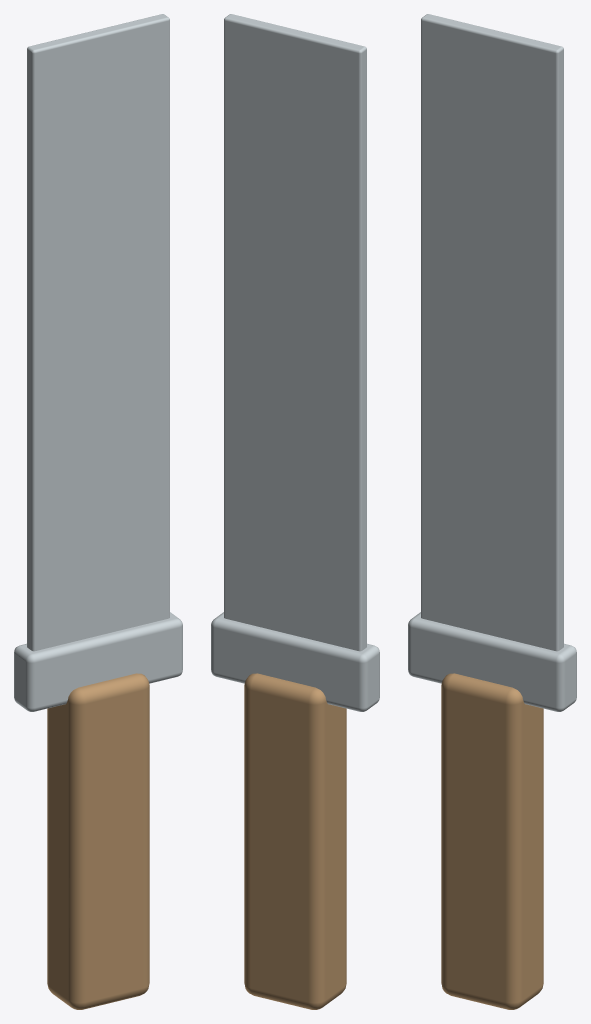
The model's file is beekeeping-and-honey-farm-uncapping-knife-56d71195__30727.glb.
3 views of the same model, side by side, from view 1: azimuth 30°, elevation 25°; view 2: azimuth 150°, elevation 25°; view 3: azimuth 330°, elevation 25° (orthographic).
Visible parts, largest first — view 1: uncapping-knife; view 2: uncapping-knife; view 3: uncapping-knife.
Boxes of the visible parts, x1,y1,x2,y2 form: uncapping-knife: (14,14,182,1009); uncapping-knife: (211,14,379,1009); uncapping-knife: (408,14,576,1009).
Size of the model in its own units: 0.051 by 0.3 by 0.018.
